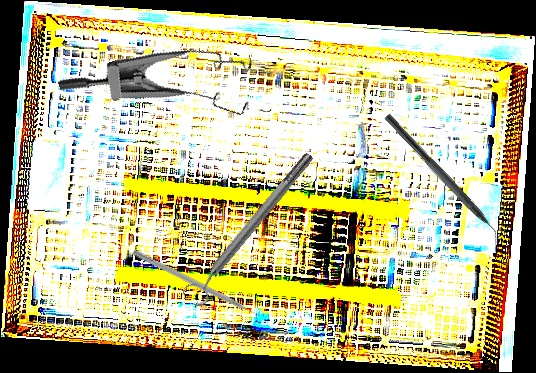Chopper: (374, 112, 511, 252), (128, 249, 264, 327)
Fixation Ring: (178, 146, 323, 311)
Speculum: (57, 18, 267, 168)
